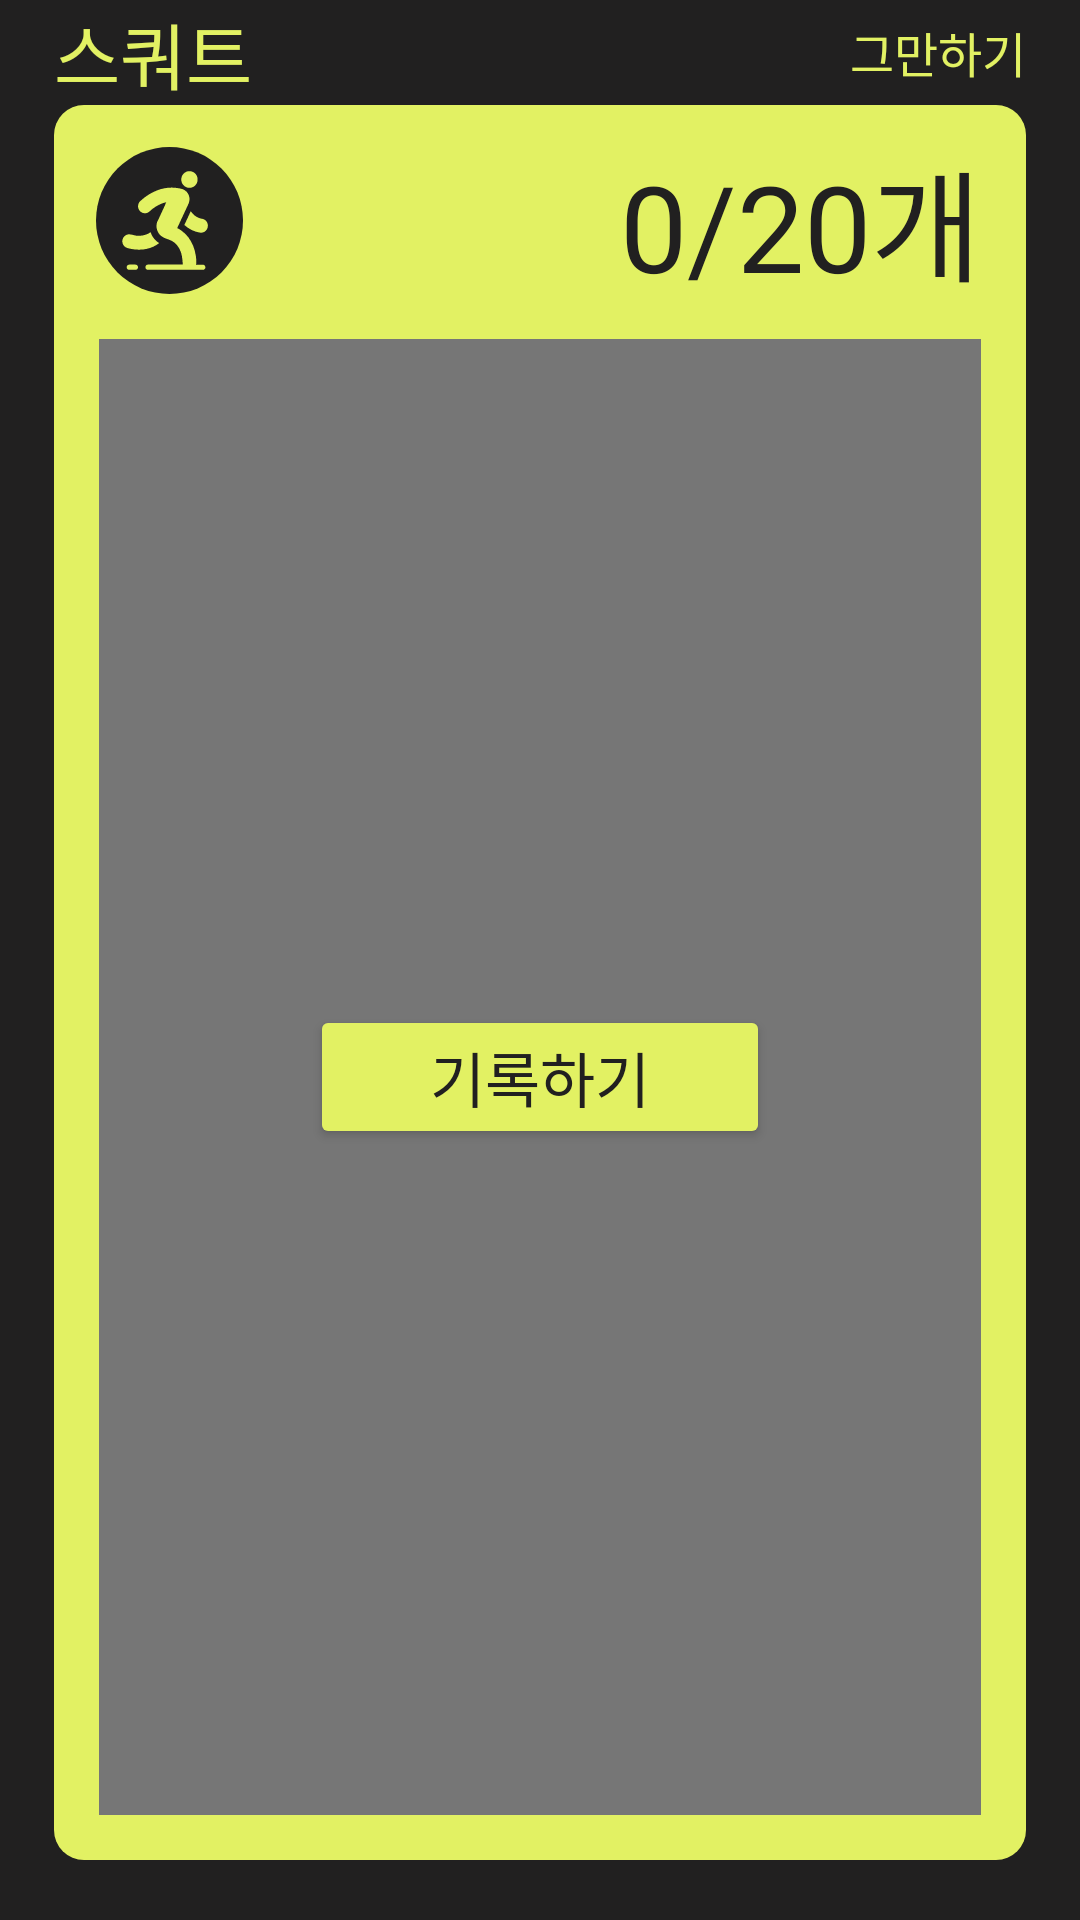

Named icons in this screenshot (1080w x 1920h) and their centers, (x,y):
run mission: (169,220)
